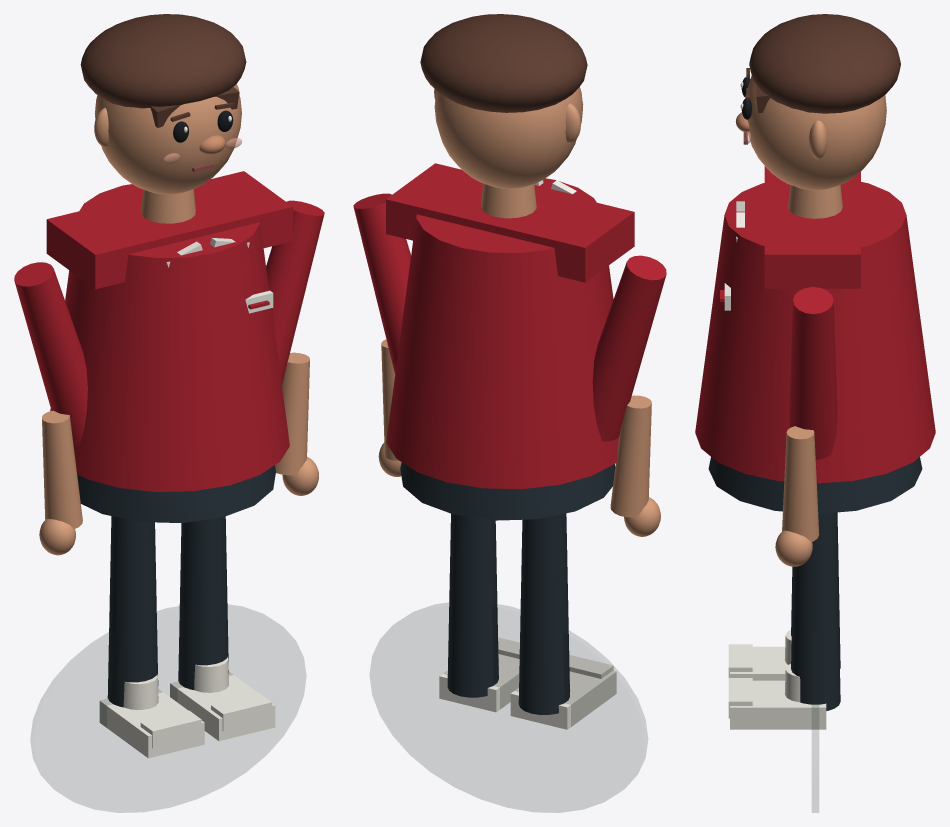
File: staff_06_counter.glb
The picture shows the model from 3 angles, left to right: view 1: azimuth 30°, elevation 25°; view 2: azimuth 150°, elevation 25°; view 3: azimuth 270°, elevation 25°; orthographic projection. The views are drawn at different scales.
Visible parts, largest first — view 1: torso, contact_shadow, shoulder_line, hair_cap, head, leg_-0.075, leg_0.075, upper_arm_-0.235, hip, upper_arm_0.235, forearm_-0.235, shoe_-0.075 (+9 smaller); view 2: torso, contact_shadow, hair_cap, shoulder_line, leg_-0.075, head, leg_0.075, upper_arm_-0.235, hip, upper_arm_0.235, forearm_-0.235, shoe_-0.075 (+5 smaller); view 3: torso, hair_cap, head, shoulder_line, leg_0.075, upper_arm_0.235, hip, forearm_0.235, shoe_0.075, neck, shoe_-0.075, contact_shadow (+5 smaller).
Boxes of the visible parts, x1,y1,x2,y2 form: torso: [50, 184, 289, 491]; contact_shadow: [31, 605, 305, 812]; shoulder_line: [46, 171, 292, 289]; hair_cap: [80, 14, 246, 108]; head: [95, 84, 241, 194]; leg_-0.075: [107, 516, 158, 707]; leg_0.075: [178, 516, 228, 689]; upper_arm_-0.235: [14, 262, 87, 446]; hip: [77, 465, 275, 523]; upper_arm_0.235: [266, 200, 324, 384]; forearm_-0.235: [42, 410, 82, 529]; shoe_-0.075: [99, 689, 204, 758]; torso: [386, 178, 619, 489]; contact_shadow: [370, 603, 647, 812]; hair_cap: [420, 14, 587, 112]; shoulder_line: [386, 163, 634, 282]; leg_-0.075: [518, 513, 569, 714]; head: [434, 87, 582, 188]; leg_0.075: [447, 513, 498, 697]; upper_arm_-0.235: [592, 255, 666, 441]; hip: [400, 462, 615, 520]; upper_arm_0.235: [353, 193, 410, 373]; forearm_-0.235: [610, 395, 651, 517]; shoe_-0.075: [510, 670, 616, 729]; torso: [695, 182, 935, 483]; hair_cap: [749, 14, 900, 113]; head: [745, 75, 886, 190]; shoulder_line: [764, 166, 860, 288]; leg_0.075: [791, 512, 840, 710]; upper_arm_0.235: [789, 287, 837, 459]; hip: [708, 457, 922, 513]; forearm_0.235: [782, 426, 819, 541]; shoe_0.075: [730, 680, 826, 729]; neck: [788, 185, 842, 218]; shoe_-0.075: [730, 646, 787, 680]; contact_shadow: [812, 635, 818, 812].
Bounding box in the file's own units: 0.6685 × 1.62 × 0.4635.
